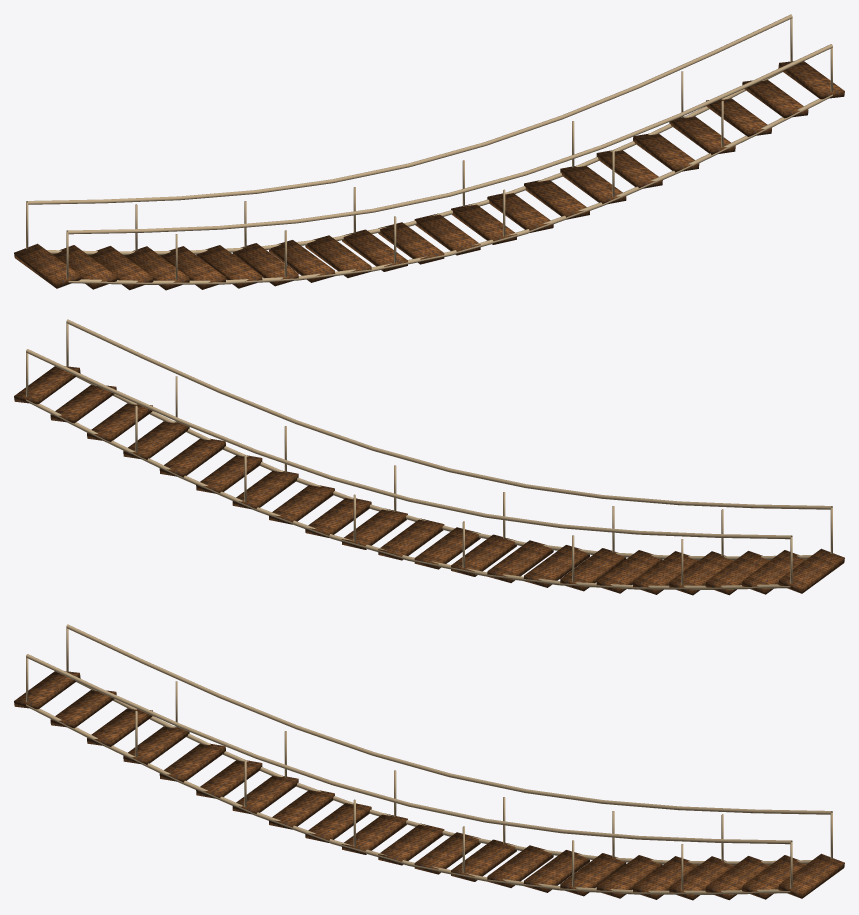
File: prop_rope_bridge.glb
3 views of the same model, one above another, from view 1: azimuth 30°, elevation 25°; view 2: azimuth 150°, elevation 25°; view 3: azimuth 330°, elevation 25° (orthographic).
Parts seen in each view (by area): view 1: Slat_0; view 2: Slat_0; view 3: Slat_0.
Boxes of the visible parts, x1=… form: Slat_0: x1=14, y1=14, x2=844, y2=290; Slat_0: x1=14, y1=319, x2=844, y2=595; Slat_0: x1=14, y1=624, x2=844, y2=900.
Size of the model in its own units: 47.47 by 6.86 by 4.44.
2 materials, 1 textured.
